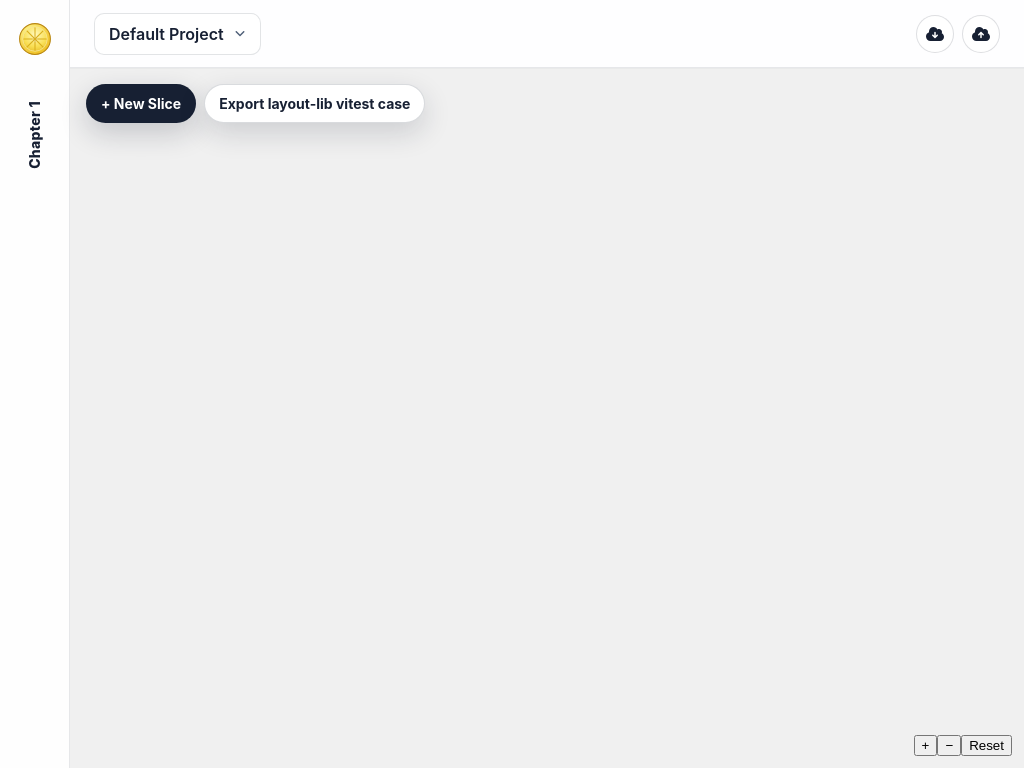
App backup/restore property event flow › restores node property events from a clipboard backup into the focused node side panel
Click the button named "Restore full event backup from clipboard" at [981, 34], box [962,14,1000,52]
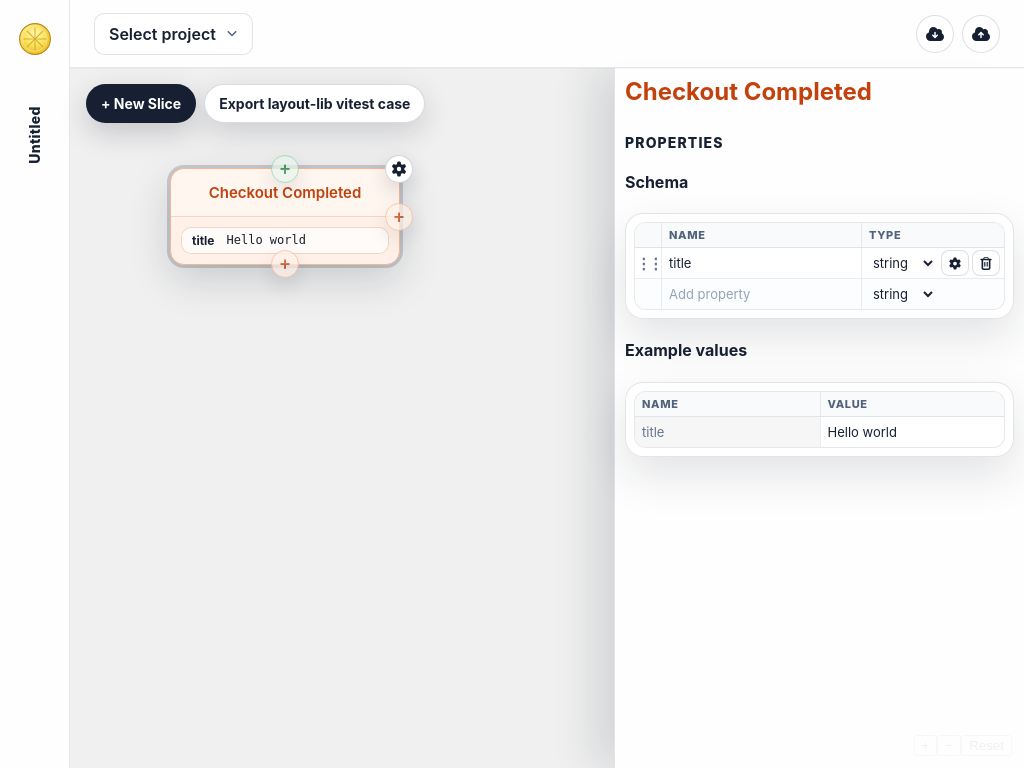
Result: the heading with class "node-detail-title" reads "Checkout Completed" at [625,77,872,106]
Result: the element with class "node-editor" is shown at [625,172,1014,457]
Result: the field with placeholder "propertyName" below "Type" holds "title" at [662,248,861,278]
